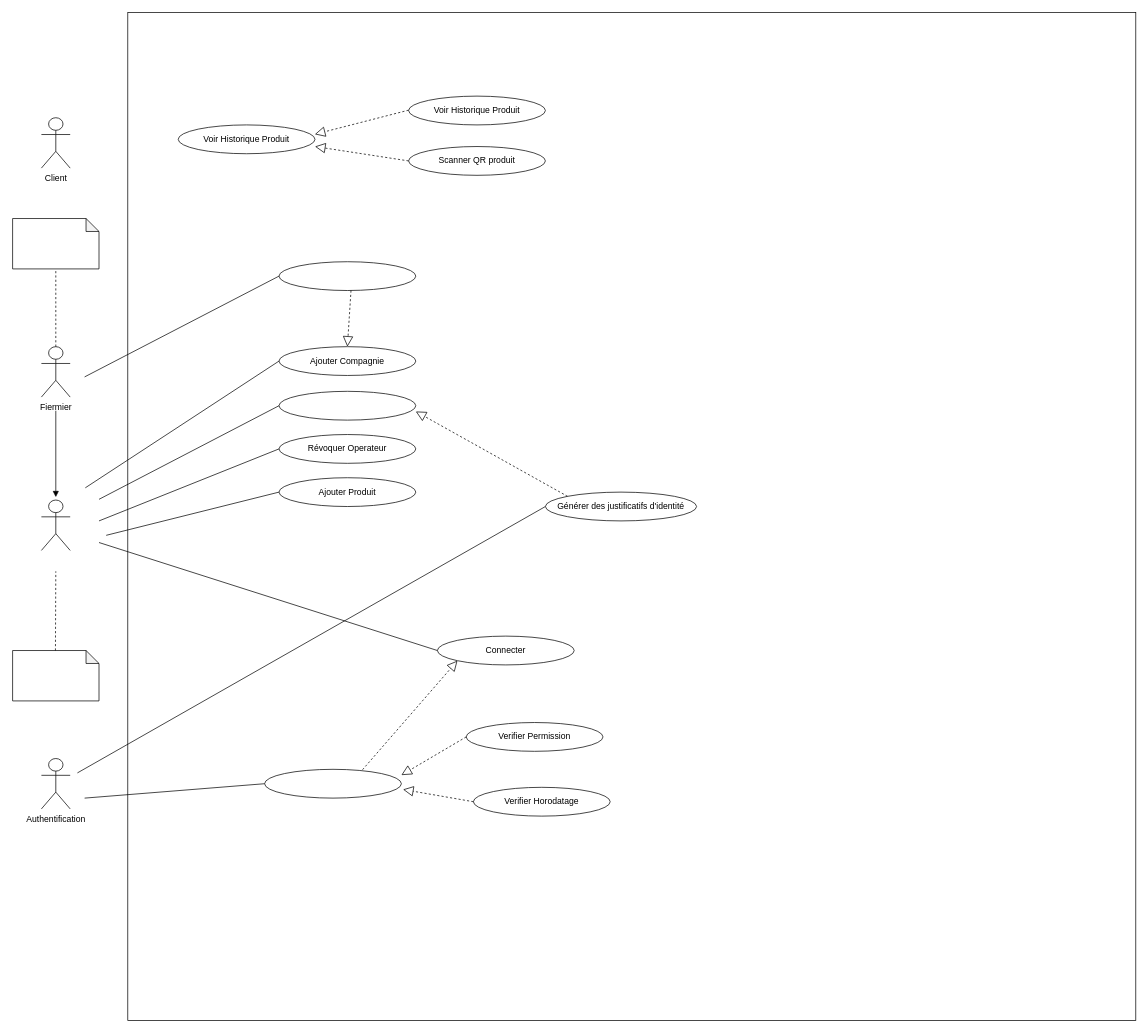
The diagram is 1148 pixels wide and 1033 high, and some of its shapes have lost their labels. The centre of each missing label's shape, as x and y in pixels:
Admin d'entreprise: (55,524)
administrateur d'une entreprise: (55,675)
administrateur d'une exploitation agricole (production): (55,243)
Ajouter Champ: (347,276)
Ajouter Operateur: (347,405)
Verifier Identiter: (332,783)
